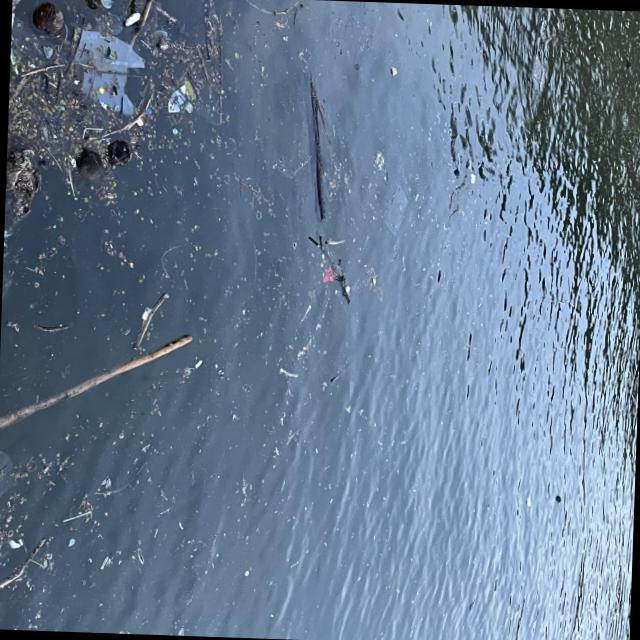foam: (165, 84, 192, 115), (122, 10, 142, 26), (8, 540, 20, 548), (390, 65, 396, 77), (525, 495, 530, 507), (469, 173, 475, 183)
plastic: (10, 12, 13, 40)
plastic bottle: (68, 30, 144, 114), (382, 184, 408, 236), (0, 442, 19, 501), (21, 30, 54, 60), (62, 508, 90, 523), (90, 0, 112, 9)
unknow: (2, 152, 40, 248), (322, 266, 332, 284)
